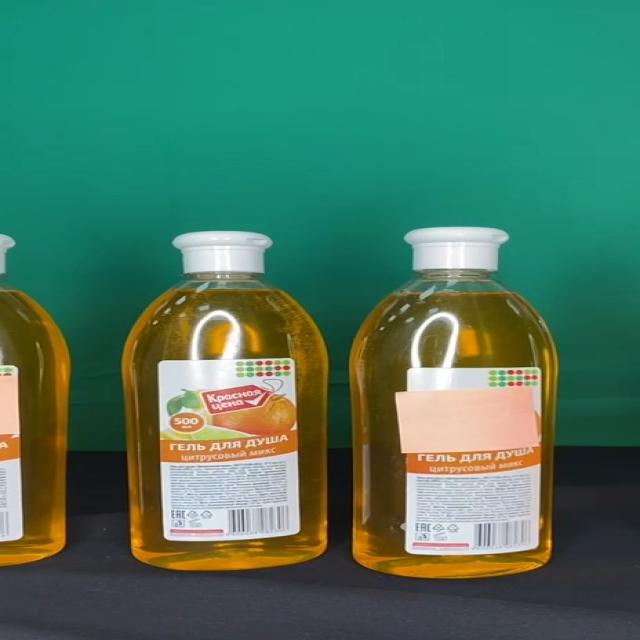Bottle: (350, 227, 558, 579), (120, 231, 328, 572)
Cap: (403, 228, 507, 271), (169, 231, 273, 273)
